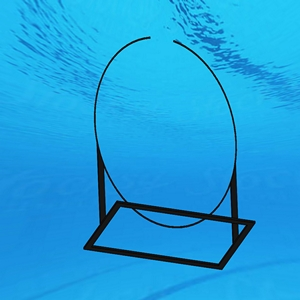circle: (81, 35, 259, 274)
